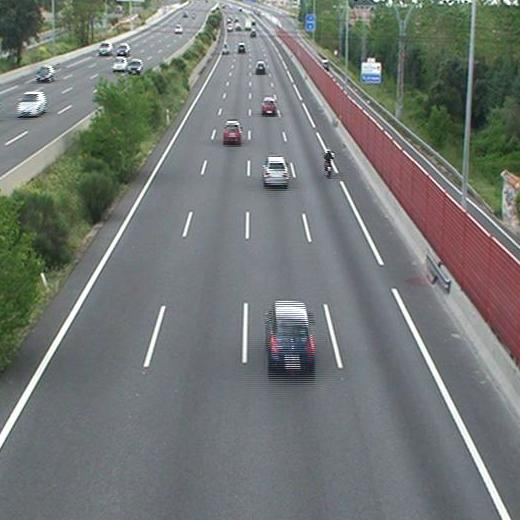car: (267, 302, 315, 369), (263, 156, 289, 185), (223, 121, 240, 142), (262, 98, 277, 113), (255, 61, 267, 74), (221, 46, 230, 54), (237, 45, 244, 51)
motorcycle: (322, 148, 334, 177)
